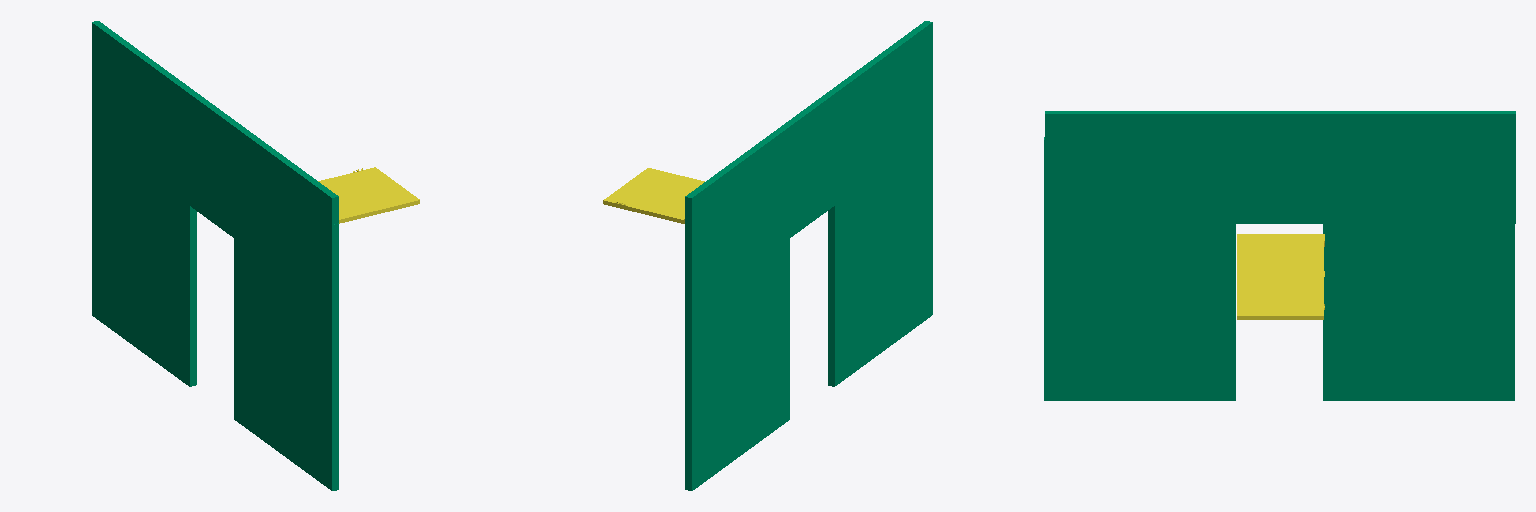
URDF robot description (door_test):
<robot name = 'door_test' xmlns:xacro="http://ros.org/wiki/xacro">

    <link name = 'base_link'/>

    <joint name = 'base_to_door_fake_link' type = 'fixed'>
        <parent link = 'base_link'/>
        <origin xyz = '0.5 0 0.0' rpy = '0 0 3.14159'/>
        <child link = 'door_fake_link'/>
    </joint>

    <link name = 'door_fake_link'/>

    <joint name = 'base_joint' type = 'fixed'>
        <parent link = 'base_link'/>
        <origin xyz = '0 0.5 0.0' rpy='0 0 3.14159'/>
        <!-- if move y : the door will slide -->
        <child link = 'door_wall'/>
    </joint>

    <link name = 'door_wall'>
        <visual name = 'side_1_:hinge_side'>
            <geometry>
                <box size='0.08 2.0 3.0'/>
            </geometry>
            <origin xyz = '0 -0.92 1.5' rpy = '0 0 0'/>
        </visual>
        <visual name='side_2 wall'>
            <geometry>
                <box size='0.08 2.0 3.0'/>
            </geometry>
            <origin xyz = '0 1.99 1.5' rpy = '0 0 0'/>
        </visual>
        <visual name = 'top'>
            <geometry>
                <box size='0.08 4.91 1.26'/>
            </geometry>
            <origin xyz = '0 0.532 2.67' rpy = '0 0 0'/>
        </visual>

        <collision name="side_1_:hinge_side">
            <geometry>
                <box size='0.08 2.0 3.0'/>
            </geometry>
            <origin xyz = '0 -0.92 1.5' rpy = '0 0 0'/>
        </collision>
        <collision name="side_2_frame">
            <geometry>
                <box size = '0.05029 0.06858 2.10820'/>
            </geometry>
            <origin xyz="-0.02 1.02 1.05" rpy="0 0 0"/>
        </collision>
        <collision name = 'side_2_wall'>
            <geometry>
                <box size='0.08 2.0 3.0'/>
            </geometry>
            <origin xyz = '0 2.02 1.5' rpy = '0 0 0'/>
        </collision>
        <collision name="top">
            <geometry>
                <box size='0.08 4.91 1.26'/>
            </geometry>
            <origin xyz = '0 0.532 2.67' rpy = '0 0 0'/>
        </collision>
        <inertial>
            <origin xyz="0 0 0" rpy="0 0 0"/>
            <mass value="10000.0"/>
            <inertia ixx="0.0" ixy="0.0" ixz="0.0" iyy="0.0" iyz="0.0" izz="0.0"/>
        </inertial>
    </link>

    <joint name = 'door_hinge' type = 'revolute'>
        <axis xyz = '0 0 -1' rpy = '0 0 0 '/>
        <origin xyz = '-0.07 0.06858 2.040'/>
        <limit lower = '0' upper = '1.57' effort='10000' velocity="100.00"/>
        <dynamics damping="25.0" friction="0.0"/>
        <parent link = 'door_wall'/>
        <child link = 'door'/>
    </joint>

    <link name = 'door'>
        <visual>
            <geometry>
                <mesh filename = './meshes/door.dae'/>
            </geometry>
            <origin xyz = '-0.05 0 0' rpy = '-1.57 0 1.57'/>
            <color rgba = '0.5 0.5 0.5 1.0'/>
        </visual>
        <collision name="door_collision">
            <geometry>
                <mesh filename = './meshes/door.dae'/>
            </geometry>
            <origin xyz = '-0.05 0 0' rpy = '-1.57 0 1.57'/>
        </collision>
        <inertial>
            <origin xyz="0.4569 0.0349 1.016" rpy="0 0 0"/>
            <mass value="41.3256"/>
            <inertia ixx="14.2053" ixy="0.0004" ixz="0.0000" iyy="17.1997" iyz="0.0000" izz="3.0298"/>
        </inertial>
    </link>

    <joint name = 'door_handle' type = 'revolute'>
        <axis xyz = '1 0 0' rpy = '0 0 0 '/>
        <parent link = 'door'/>
        <origin xyz = '0.035 0.75 -1.02'/>
        <limit lower = '0' upper = '0.5236' effort='100' velocity="1000.00"/>
        <dynamics damping="0.01" friction="0.0"/>
        <child link = 'door_handles'/>
    </joint>

    <link name = 'door_handles'>
        <visual>
            <geometry>
                <mesh filename = './meshes/door_handle.dae'/>
            </geometry>
            <origin xyz = '0 0 0' rpy = '0 3.141592 1.57'/>
            <color rgba = '0.55 0.5 0.5 1.0'/>
        </visual>
        <visual>
            <geometry>
                <mesh filename = './meshes/door_handle.dae'/>
            </geometry>
            <origin xyz = '0.04 0 0' rpy = '0 0 -1.57'/>
             <color rgba = '0.5 0.5 0.5 1.0'/>
        </visual>

        <collision name="door_handles_collision">
            <geometry>
                <mesh filename="./meshes/door_handle_collision.dae"/>
            </geometry>
            <origin xyz = '0 0 0' rpy = '0 3.141592 1.57'/>
        </collision>
        <collision name="door_handles_collision">
            <geometry>
                <mesh filename="./meshes/door_handle_collision.dae"/>
            </geometry>
            <origin xyz = '0.045 0 0' rpy = '0 0 -1.57'/>
        </collision>
        <inertial>
            <origin xyz="0.0 0.0 0.0" rpy="3.14159 0 1.57"/>
            <mass value="1.0"/>
        </inertial>
    </link>
    
    <joint name = 'handle2latch' type = 'fixed'>
        <parent link = 'door_handles'/>
        <child link = 'door_latch'/>
    </joint>

    <link name='door_latch'>
        <collision>
            <geometry>
                <box size='0.001 0.5 0.01'/>
            </geometry>
            <origin xyz = '-0.014 0.2 0.9' rpy = '0 0 0'/>
        </collision>
    </link>
    
    <joint name = 'handle2dsr_pose' type = 'fixed'>
        <parent link = 'door_handles'/>
        <child link = 'dsr_pose'/>
        <origin xyz = '-0.03 -0.11 0.0' rpy = '0 0 3.14159265'/>
    </joint>

    <link name="dsr_pose"/>

</robot>

--- Render facts (derived) ---
3 views of the same robot in one strip: view 1: azimuth 30°, elevation 25°; view 2: azimuth 150°, elevation 25°; view 3: azimuth 270°, elevation 25° (orthographic).
Model door_test with 7 links and 6 joints (2 revolute, 4 fixed), rooted at base_link, posed all joints at 0.
Links seen in each view (by area): view 1: door_wall, door; view 2: door_wall, door; view 3: door_wall, door.
Link boxes in pixels (left/top/right/bottom): door_wall: left=92, top=21, right=338, bottom=490; door: left=318, top=167, right=419, bottom=223; door_wall: left=685, top=21, right=932, bottom=490; door: left=603, top=168, right=704, bottom=223; door_wall: left=1044, top=111, right=1515, bottom=400; door: left=1237, top=234, right=1324, bottom=319.
Bounding box of the posed robot: 2.19 × 4.91 × 3.3 m (x, y, z).
Meshes: 2 distinct files referenced, 1 mesh visuals loaded (1 Collada DAE); not drawn: 2 (reference not matched to a file when rendering).